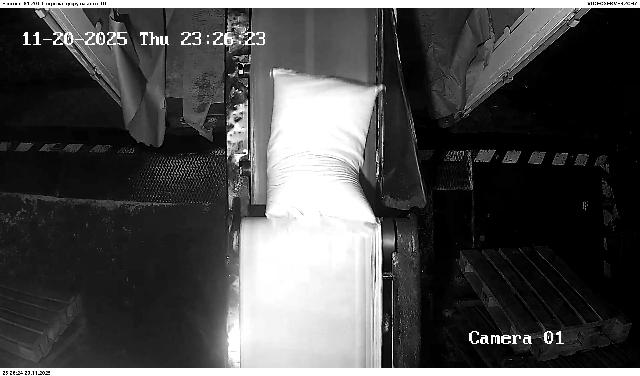bag: (266, 67, 386, 232)
